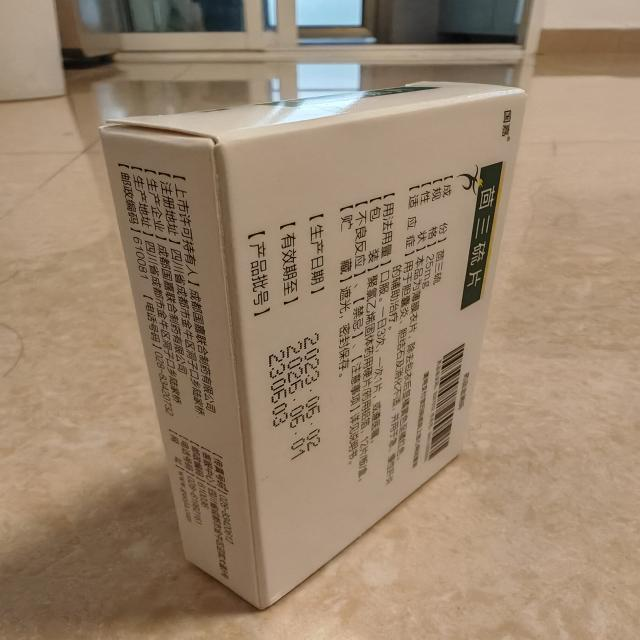box: (90, 77, 542, 618)
